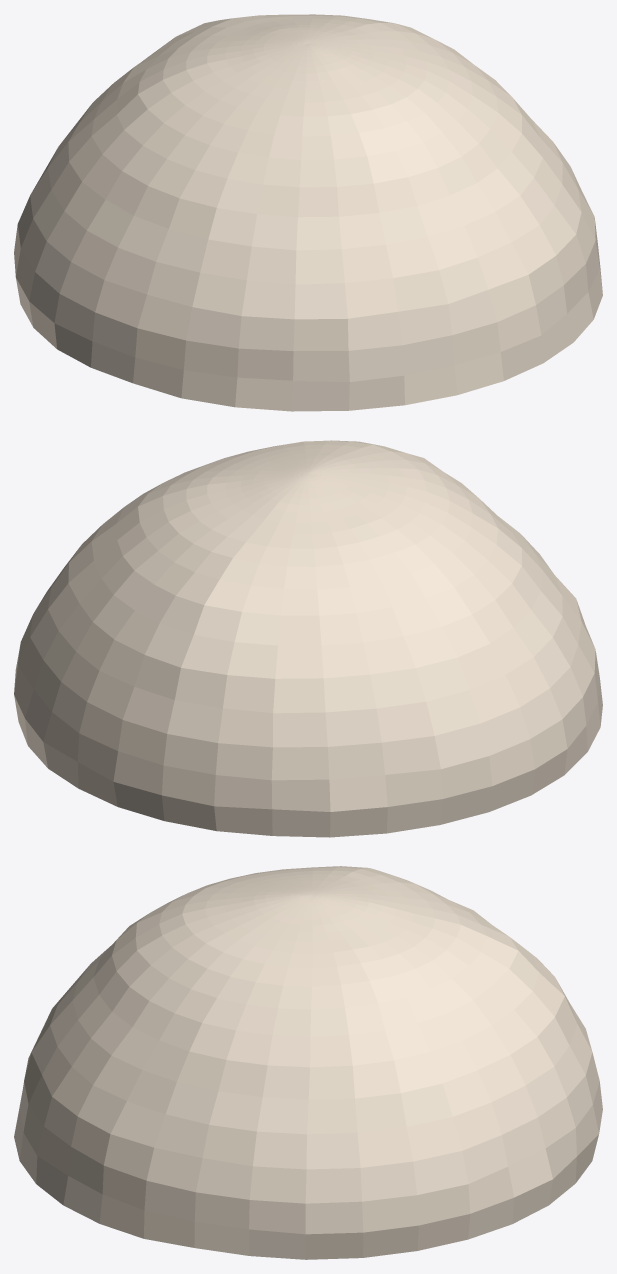
The model's file is Dough Lump 2.fbx.
3 views of the same model, one above another, from view 1: azimuth 30°, elevation 25°; view 2: azimuth 150°, elevation 25°; view 3: azimuth 270°, elevation 25° (orthographic).
Visible parts, largest first — view 1: Sphere; view 2: Sphere; view 3: Sphere.
Boxes of the visible parts, box(x1,y1,x2,y2) form: Sphere: box(14, 14, 602, 411); Sphere: box(14, 440, 602, 837); Sphere: box(14, 866, 602, 1259).
Bounding box in the file's own units: 168 × 75.93 × 168.
